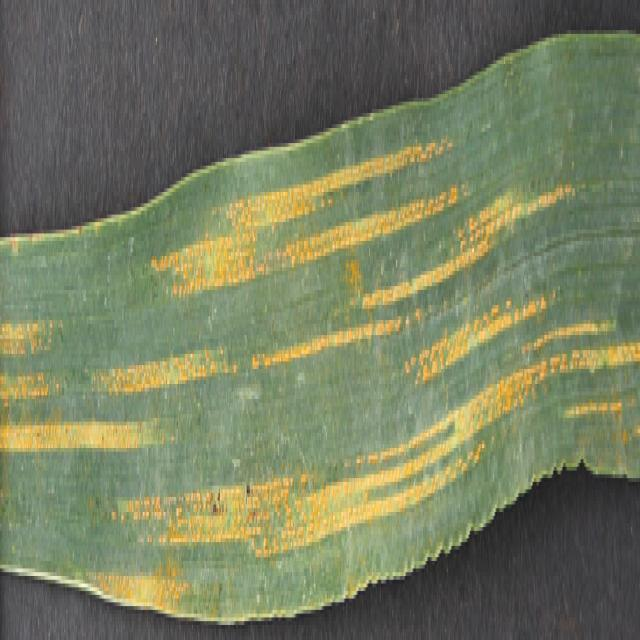leaf rust: (0, 109, 640, 609)
